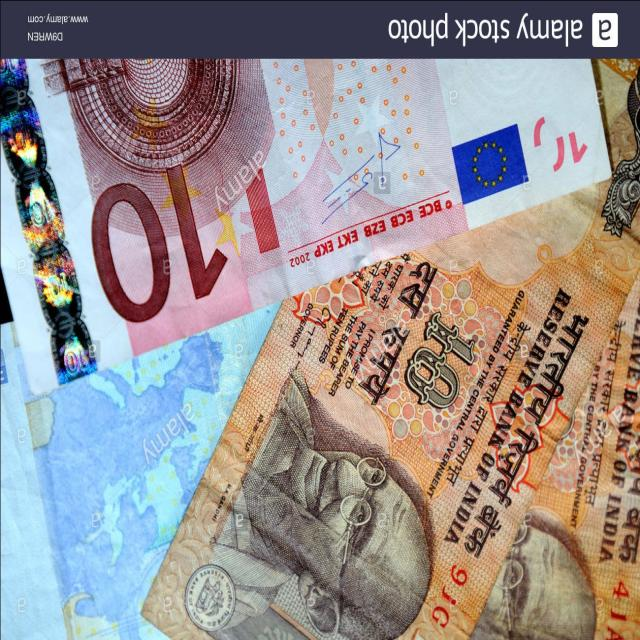10IndianRupees: (171, 222, 640, 624)
